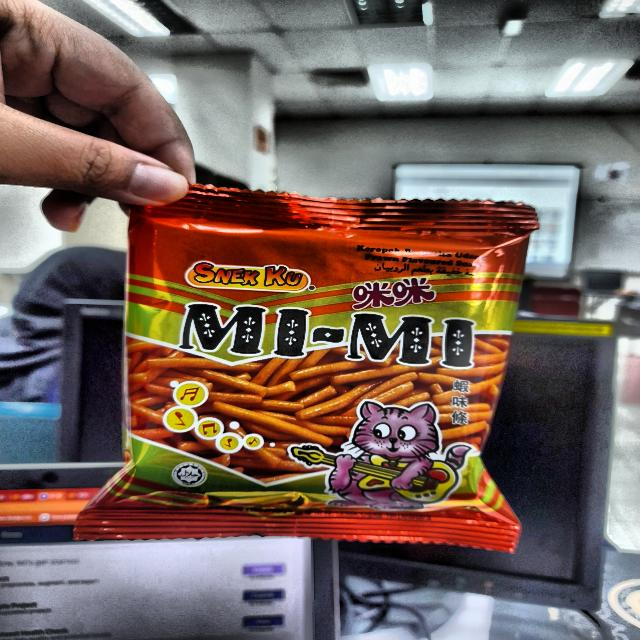Plastic: (120, 179, 530, 557)
